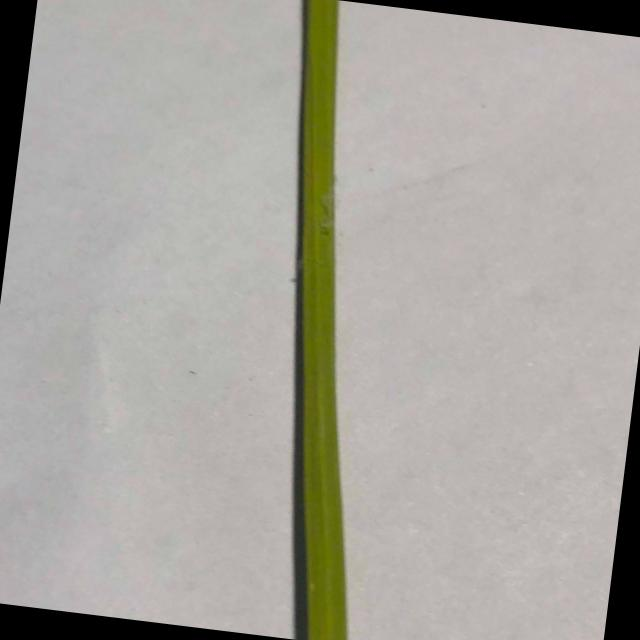Rice_Healthy: (292, 0, 347, 640)
